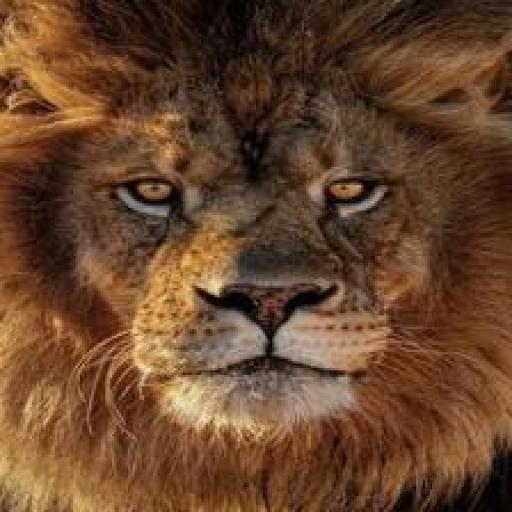lion: (23, 50, 502, 449)
